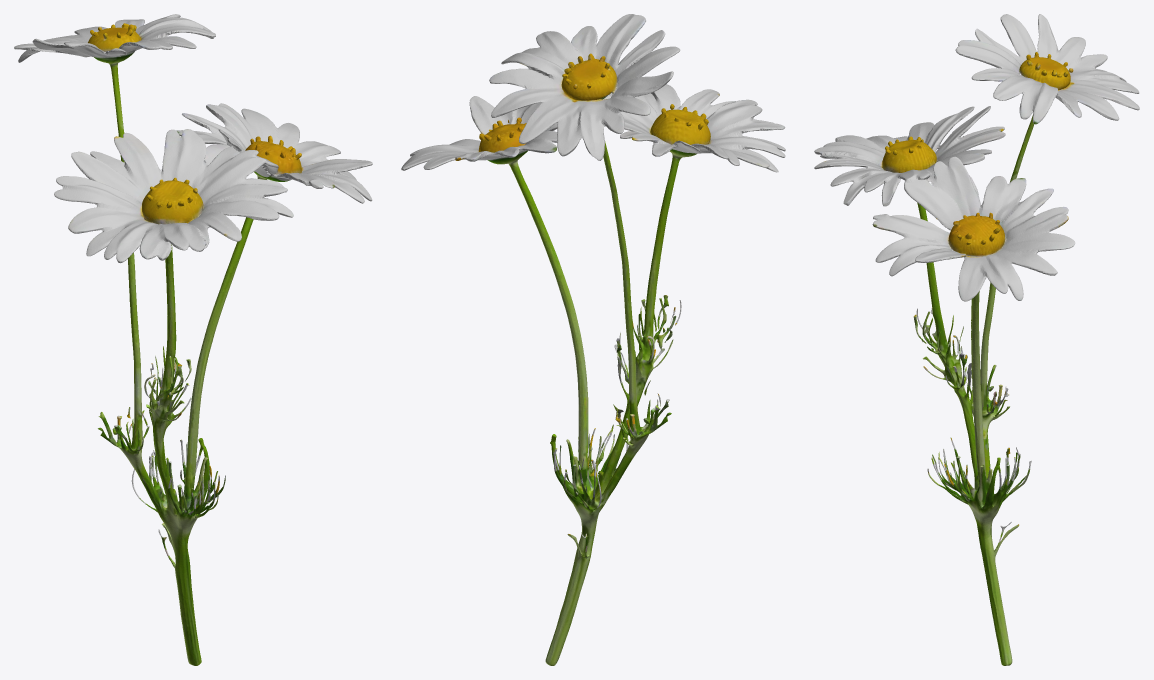
File: chamomile.glb
3 renders of one model, left to right at view 1: azimuth 30°, elevation 25°; view 2: azimuth 150°, elevation 25°; view 3: azimuth 270°, elevation 25°, orthographic. The views are drawn at different scales.
Parts seen in each view (by area): view 1: tripo_node_03314fe2-51e6-4c64-a204-ea4b630e5759; view 2: tripo_node_03314fe2-51e6-4c64-a204-ea4b630e5759; view 3: tripo_node_03314fe2-51e6-4c64-a204-ea4b630e5759.
Boxes of the visible parts, x1=… form: tripo_node_03314fe2-51e6-4c64-a204-ea4b630e5759: x1=14, y1=14, x2=372, y2=665; tripo_node_03314fe2-51e6-4c64-a204-ea4b630e5759: x1=401, y1=14, x2=785, y2=665; tripo_node_03314fe2-51e6-4c64-a204-ea4b630e5759: x1=814, y1=14, x2=1139, y2=665.
Bounding box in the file's own units: 0.5083 × 1 × 0.4969.
Materials: 1 (1 with a texture image).
